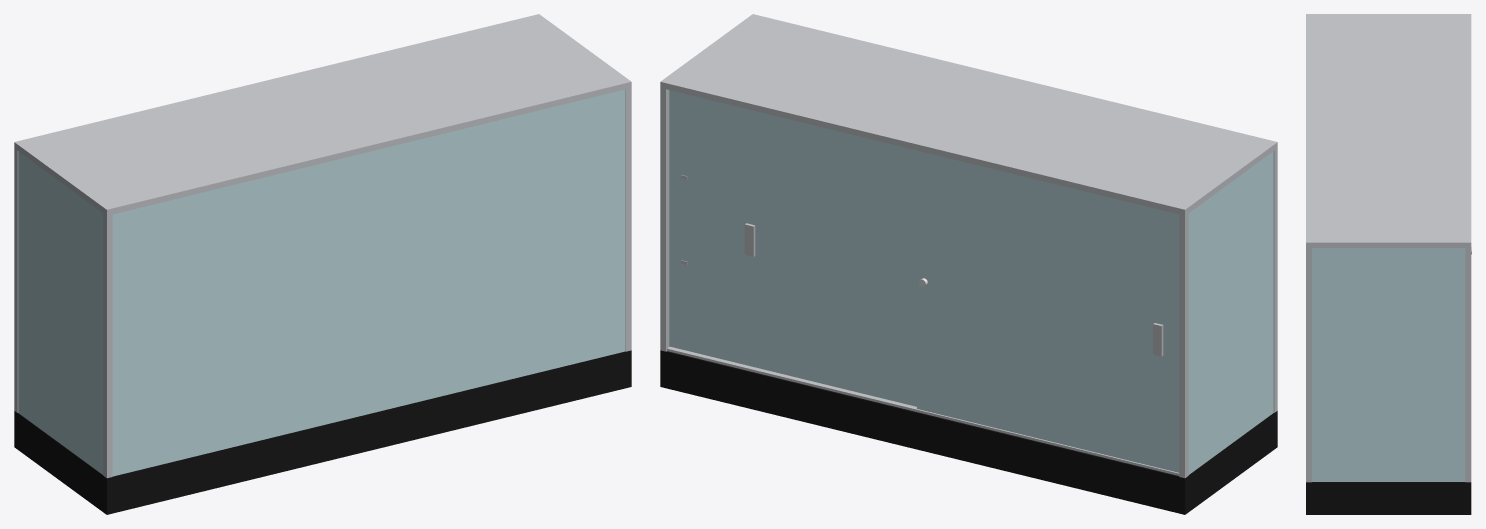
The model's file is 057_glass_showcase_counter.glb.
3 views of the same model, side by side, from view 1: azimuth 30°, elevation 25°; view 2: azimuth 150°, elevation 25°; view 3: azimuth 270°, elevation 25° (orthographic). The views are drawn at different scales.
Parts seen in each view (by area): view 1: 008_glass_front, 006_top_frame, 009_glass_end_l, 000_base_plinth, 001_base_deck, 003_aluminium_corner_post, 005_aluminium_corner_post, 002_aluminium_corner_post; view 2: 020_sliding_rear_door_1, 022_sliding_rear_door_2, 006_top_frame, 009_glass_end_l, 000_base_plinth, 001_base_deck, 002_aluminium_corner_post, 004_aluminium_corner_post, 024_door_track_bottom, 003_aluminium_corner_post; view 3: 006_top_frame, 010_glass_end_r, 000_base_plinth, 004_aluminium_corner_post, 005_aluminium_corner_post, 001_base_deck, 022_sliding_rear_door_2.
Boxes of the visible parts, left/top/right/bottom form: 008_glass_front: left=112, top=89, right=625, bottom=476; 006_top_frame: left=14, top=14, right=631, bottom=215; 009_glass_end_l: left=18, top=151, right=103, bottom=474; 000_base_plinth: left=14, top=356, right=631, bottom=514; 001_base_deck: left=14, top=350, right=631, bottom=484; 003_aluminium_corner_post: left=103, top=213, right=112, bottom=478; 005_aluminium_corner_post: left=625, top=88, right=631, bottom=351; 002_aluminium_corner_post: left=14, top=148, right=18, bottom=412; 020_sliding_rear_door_1: left=917, top=150, right=1179, bottom=472; 022_sliding_rear_door_2: left=669, top=90, right=916, bottom=406; 006_top_frame: left=660, top=14, right=1277, bottom=215; 009_glass_end_l: left=1188, top=151, right=1273, bottom=474; 000_base_plinth: left=660, top=356, right=1277, bottom=514; 001_base_deck: left=660, top=350, right=1277, bottom=484; 002_aluminium_corner_post: left=1179, top=213, right=1188, bottom=478; 004_aluminium_corner_post: left=660, top=88, right=669, bottom=351; 024_door_track_bottom: left=667, top=346, right=1179, bottom=475; 003_aluminium_corner_post: left=1273, top=148, right=1277, bottom=412; 006_top_frame: left=1306, top=14, right=1471, bottom=247; 010_glass_end_r: left=1312, top=248, right=1465, bottom=481; 000_base_plinth: left=1306, top=487, right=1471, bottom=514; 004_aluminium_corner_post: left=1465, top=248, right=1471, bottom=482; 005_aluminium_corner_post: left=1306, top=248, right=1311, bottom=482; 001_base_deck: left=1306, top=482, right=1471, bottom=487; 022_sliding_rear_door_2: left=1462, top=249, right=1464, bottom=480.
Bounding box in the file's own units: 1.8 × 1 × 0.552.
